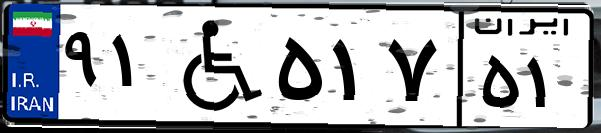1: (330, 28, 385, 110), (525, 38, 570, 115), (110, 28, 158, 98)
5: (270, 28, 330, 110), (475, 38, 525, 113)
7: (385, 28, 445, 110)
9: (57, 26, 110, 100)
ژ (معلولین و جانبازان): (158, 12, 270, 120)
